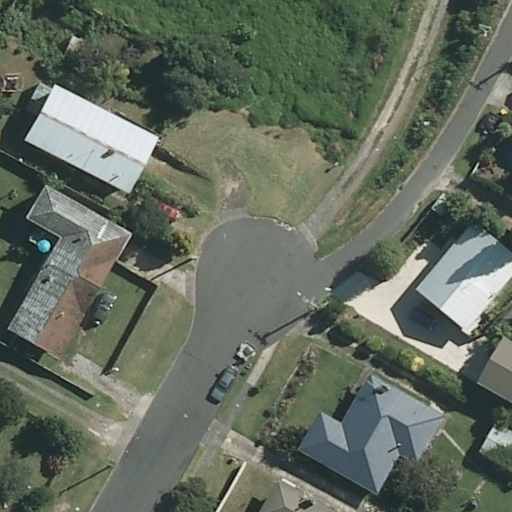DT: (302, 293, 327, 313), (181, 254, 200, 262)
